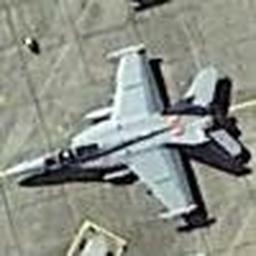Airplane: (6, 39, 244, 232)
